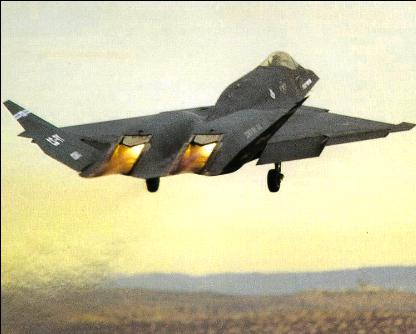US2: (1, 48, 415, 193)
